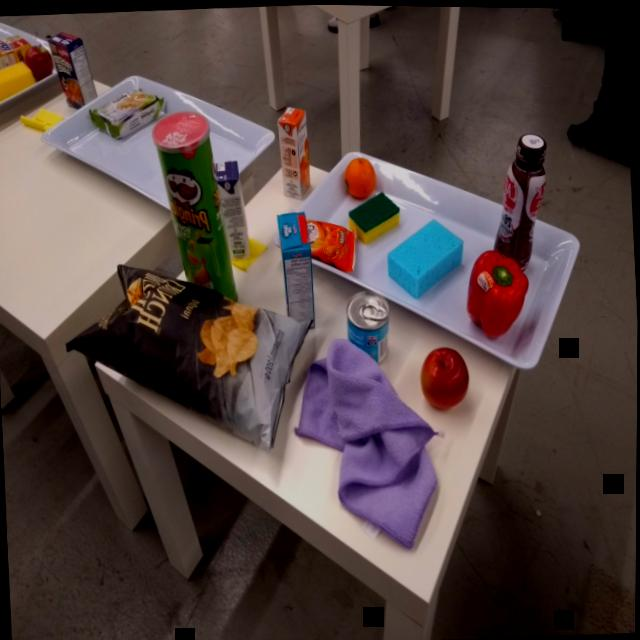apple: (416, 341, 473, 410), (23, 42, 55, 85)
cereal: (275, 206, 319, 338), (44, 27, 100, 110)
chocolate_drink: (485, 127, 556, 275)
cloth_opl: (278, 326, 449, 563)
noodles: (86, 80, 169, 145)
orange: (342, 153, 378, 200)
orange_juice: (275, 100, 316, 206)
paprika: (462, 243, 535, 346)
potato_chips: (59, 248, 321, 461)
pringles: (148, 104, 241, 308)
sausages: (341, 289, 393, 364)
scrubby: (346, 186, 403, 245)
sponge_opl: (383, 211, 470, 304)
